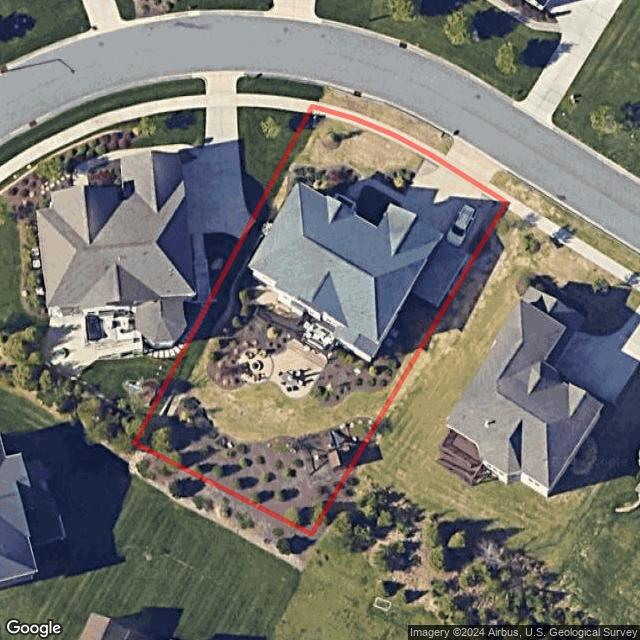Driveway: (401, 154, 503, 305)
Extra-Driveway: (439, 139, 504, 191)
Extra-Lawn: (319, 86, 455, 155), (489, 168, 528, 198)
Extra-Sidewalk: (311, 102, 445, 160), (486, 184, 513, 204)
House: (245, 178, 445, 359)
Lawn: (136, 107, 506, 534)
Other: (132, 380, 378, 535), (207, 267, 440, 405), (285, 162, 363, 198), (355, 187, 400, 228), (370, 166, 417, 192)
Sidewalk: (310, 107, 441, 165), (344, 175, 405, 201)
